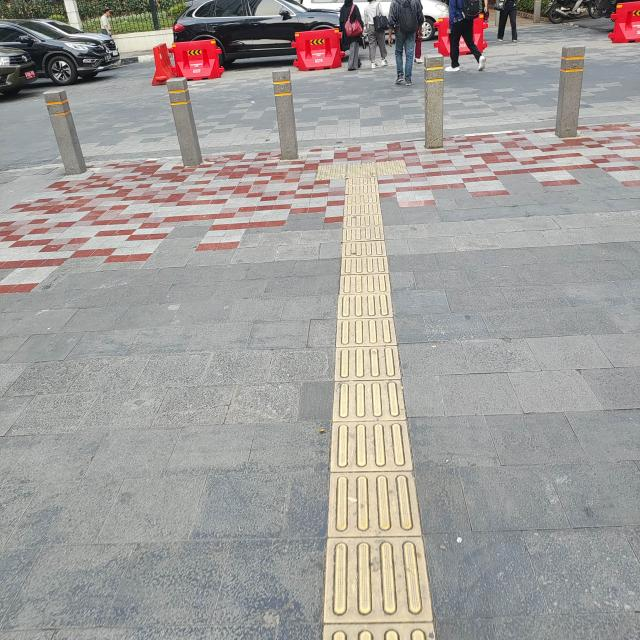lurus: (333, 184, 425, 640)
